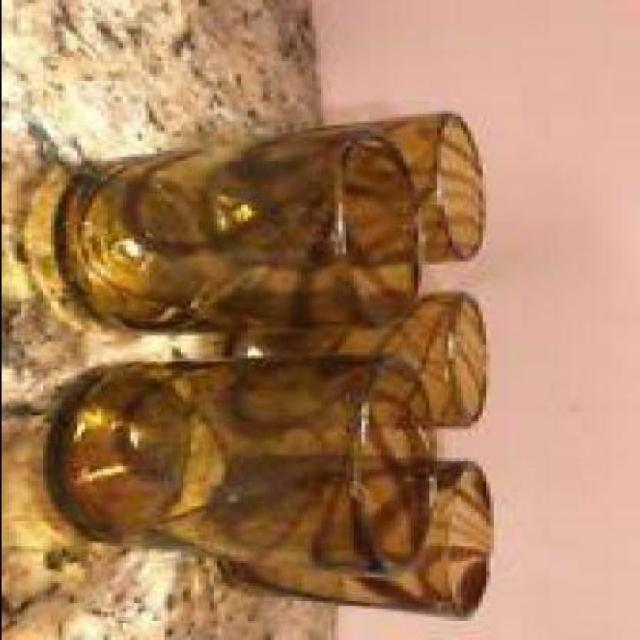glass: (54, 362, 440, 580), (46, 134, 425, 337), (228, 455, 497, 623), (231, 114, 489, 268), (228, 296, 489, 430)
